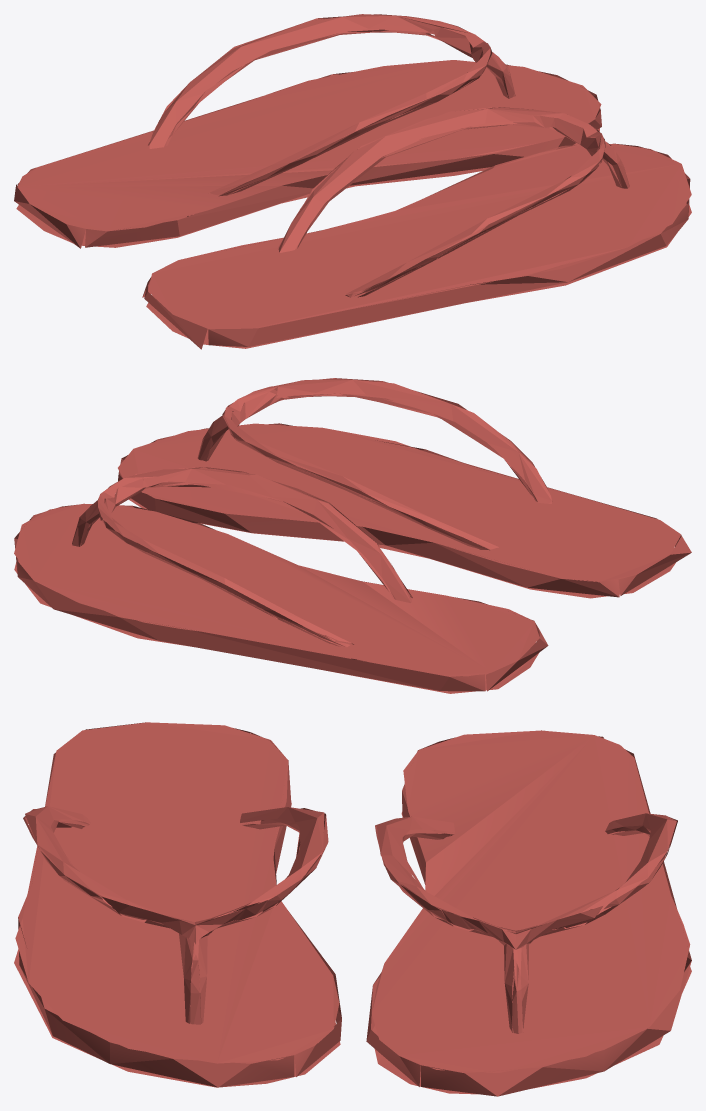
The model's file is Hand_asset_Slippers.fbx.
3 renders of one model, top to bottom at view 1: azimuth 30°, elevation 25°; view 2: azimuth 150°, elevation 25°; view 3: azimuth 270°, elevation 25°, orthographic. The views are drawn at different scales.
Visible parts, largest first — view 1: Slipper; view 2: Slipper; view 3: Slipper.
Boxes of the visible parts, bbox=[...] form: Slipper: bbox=[14, 14, 691, 349]; Slipper: bbox=[14, 378, 691, 693]; Slipper: bbox=[14, 722, 691, 1096].
Bounding box in the file's own units: 58.02 × 9.49 × 47.58.
